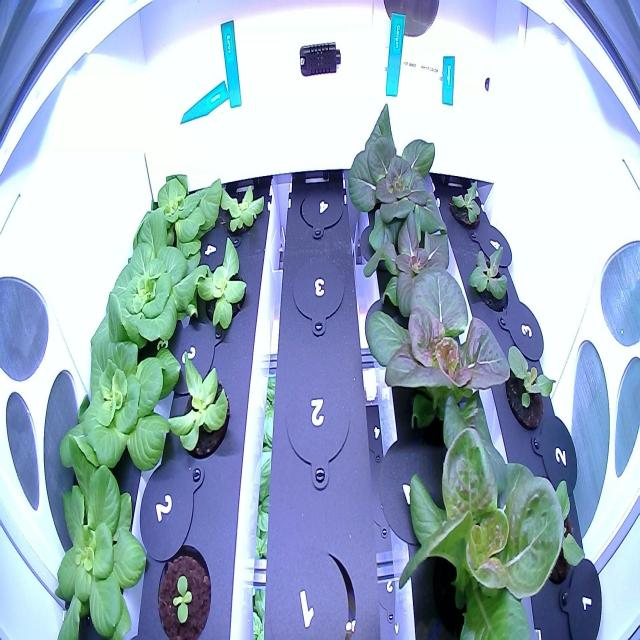empty_pod: (280, 354, 357, 494), (264, 532, 362, 639), (286, 242, 353, 342), (294, 175, 348, 237)
young: (392, 401, 572, 638), (360, 249, 517, 448), (48, 306, 184, 484), (335, 94, 455, 264), (42, 458, 150, 640), (89, 201, 211, 353), (353, 186, 468, 324), (127, 160, 226, 266), (161, 345, 235, 464), (529, 475, 589, 596), (186, 234, 253, 338), (150, 536, 215, 639), (499, 332, 562, 437), (462, 232, 516, 321), (214, 166, 273, 241), (444, 167, 492, 240)
